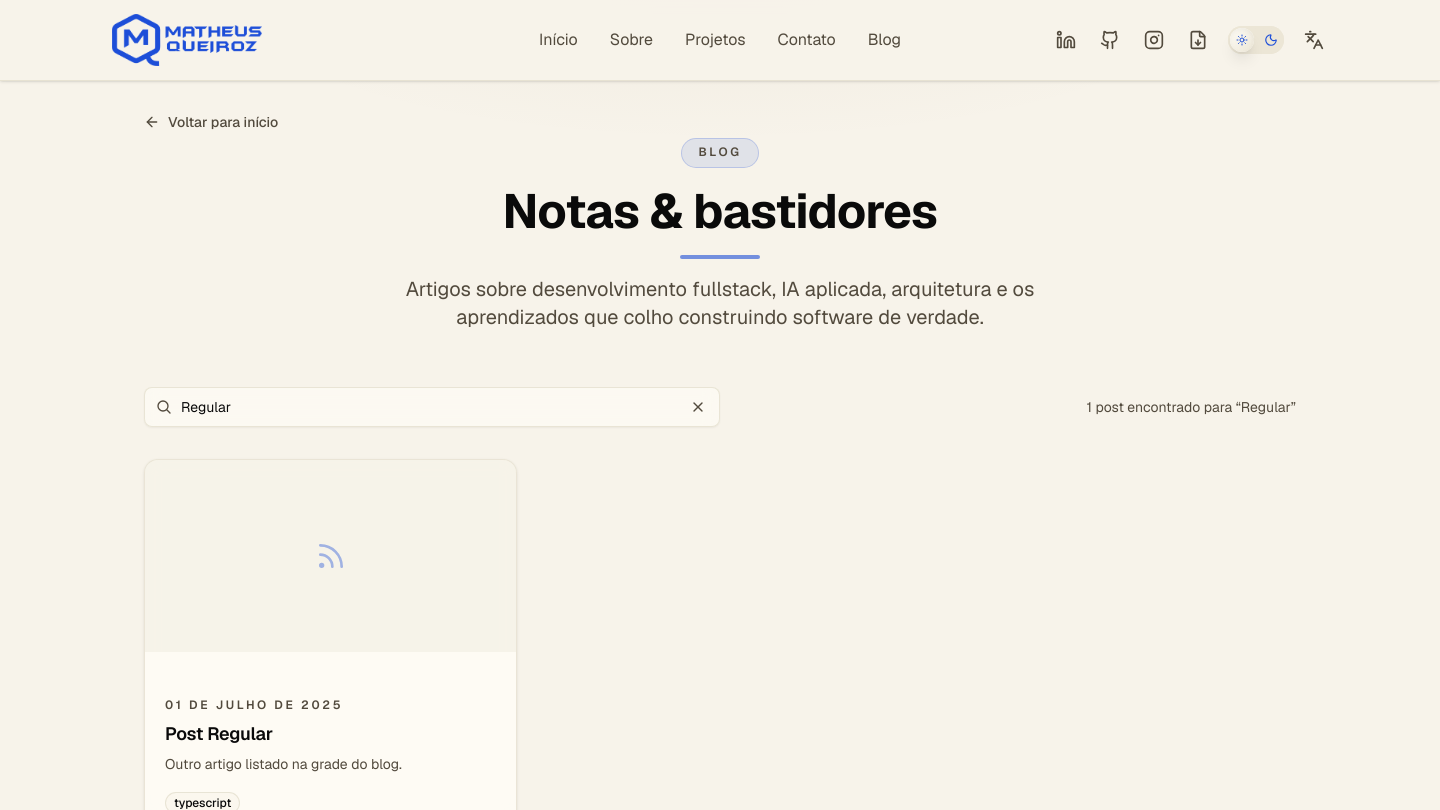
Test: BlogIndexPage search bar › clears the search and resets the url
This screenshot has width=1440, height=810.
What coordinates should you click on to do the following:
click the button named "Limpar busca"
I would click on:
 (698, 407)
Its box is 682,391 -> 714,423.
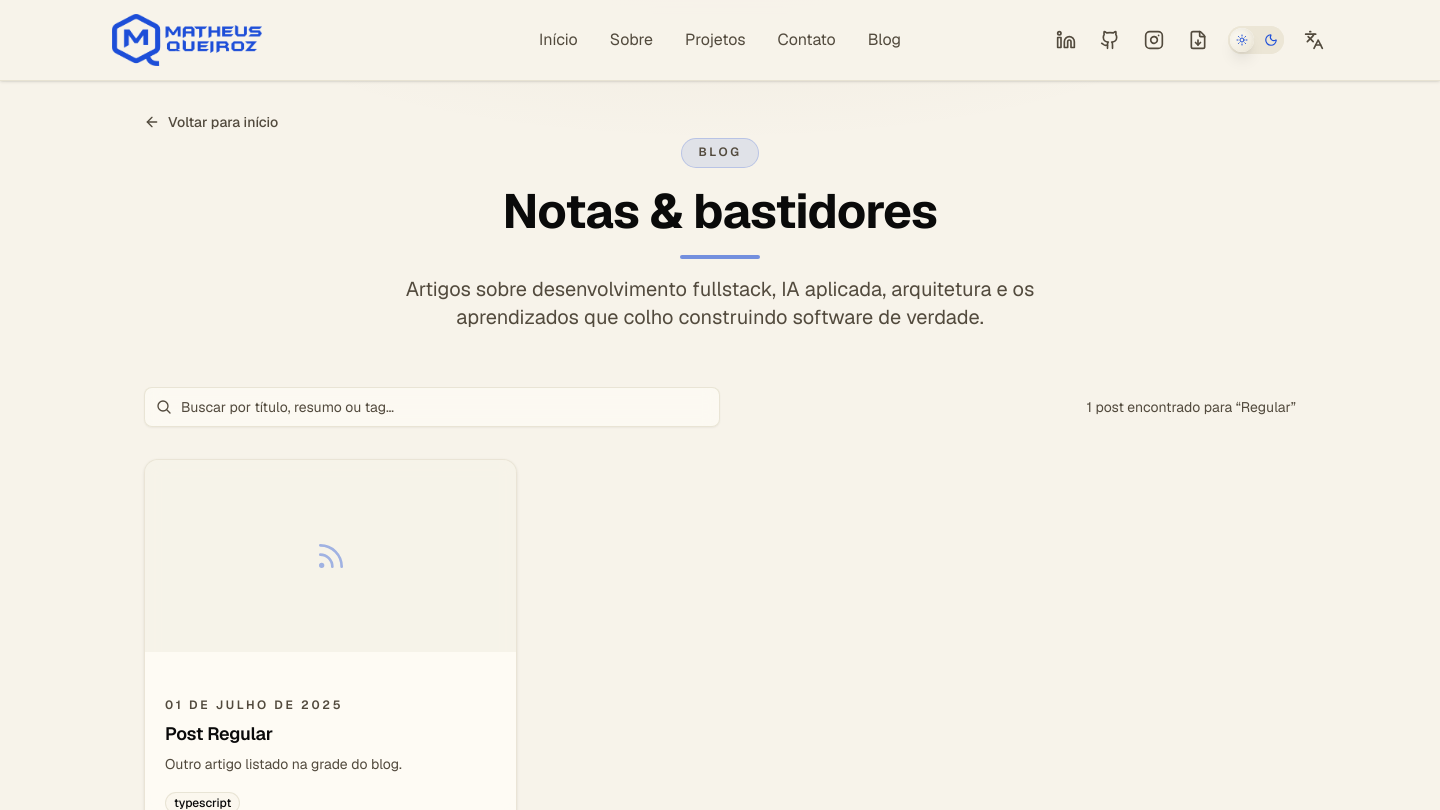
Check: the field labelled "Buscar por título, resumo ou tag…" is empty, box 144,387 -> 720,427
